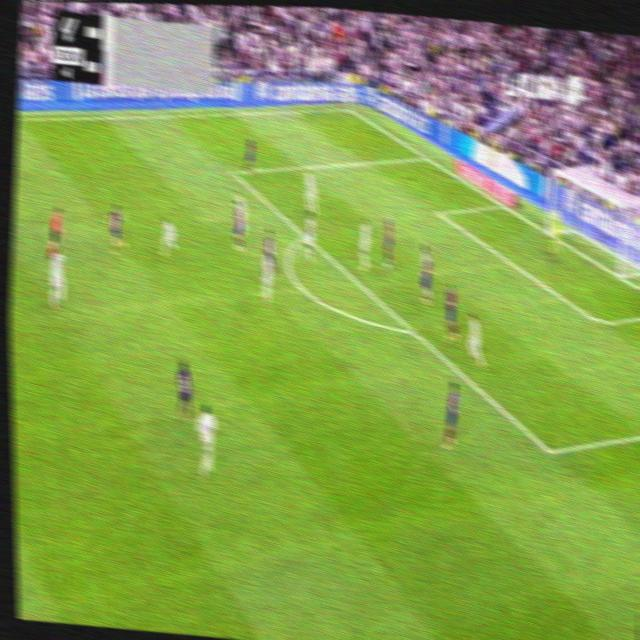bigarea_bottom_inner: (540, 437, 558, 465)
bigarea_top_inner: (226, 162, 238, 179)
bigarea_top_outter: (418, 147, 431, 163)
bottom_arc_area_intersection: (405, 320, 419, 341)
corner: (341, 102, 355, 114)
smallarea_bottom_inner: (592, 311, 607, 334)
smallarea_top_inner: (433, 205, 443, 219)
top_arc_area_intersection: (300, 228, 309, 242)
